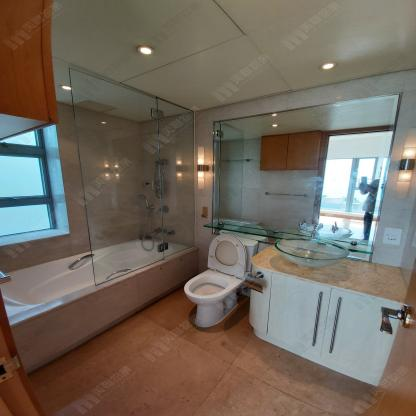Bathtub: (0, 235, 200, 376)
Faucet: (293, 221, 339, 239)
Toilet: (184, 235, 258, 326)
Toilet Sink: (274, 237, 350, 269)
